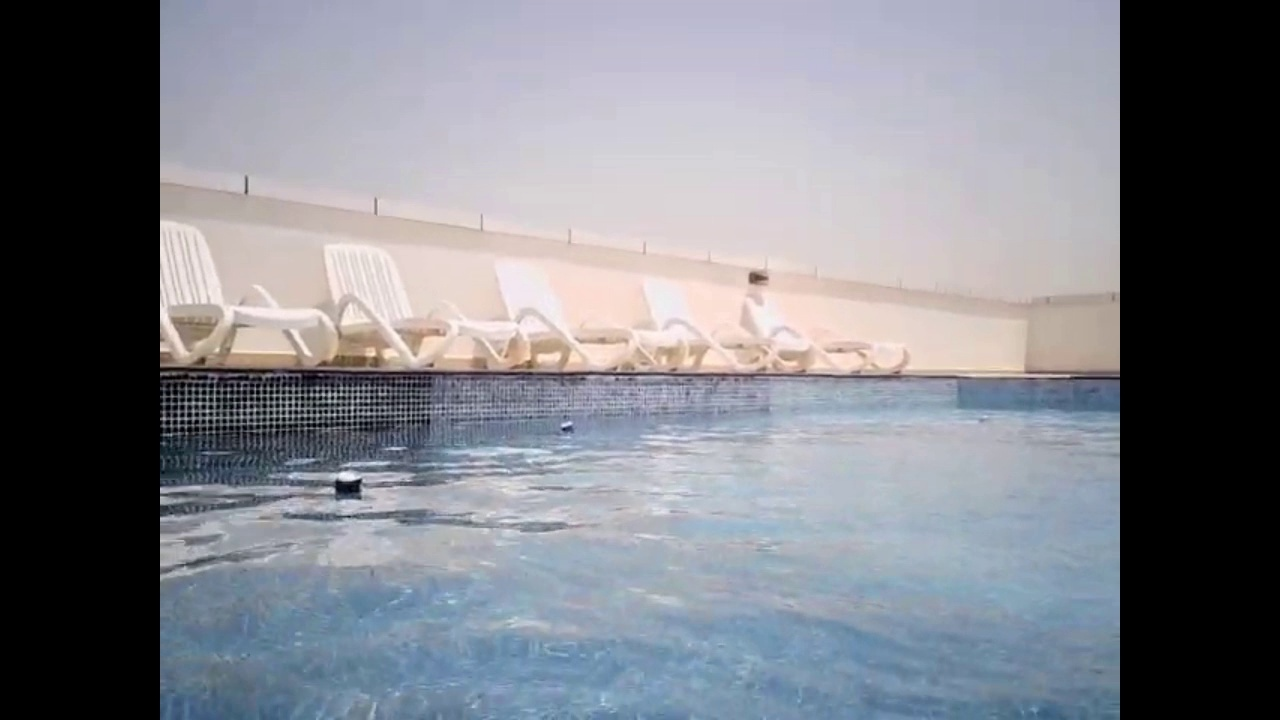debris: (329, 467, 367, 505), (554, 417, 580, 439), (974, 414, 993, 426)
